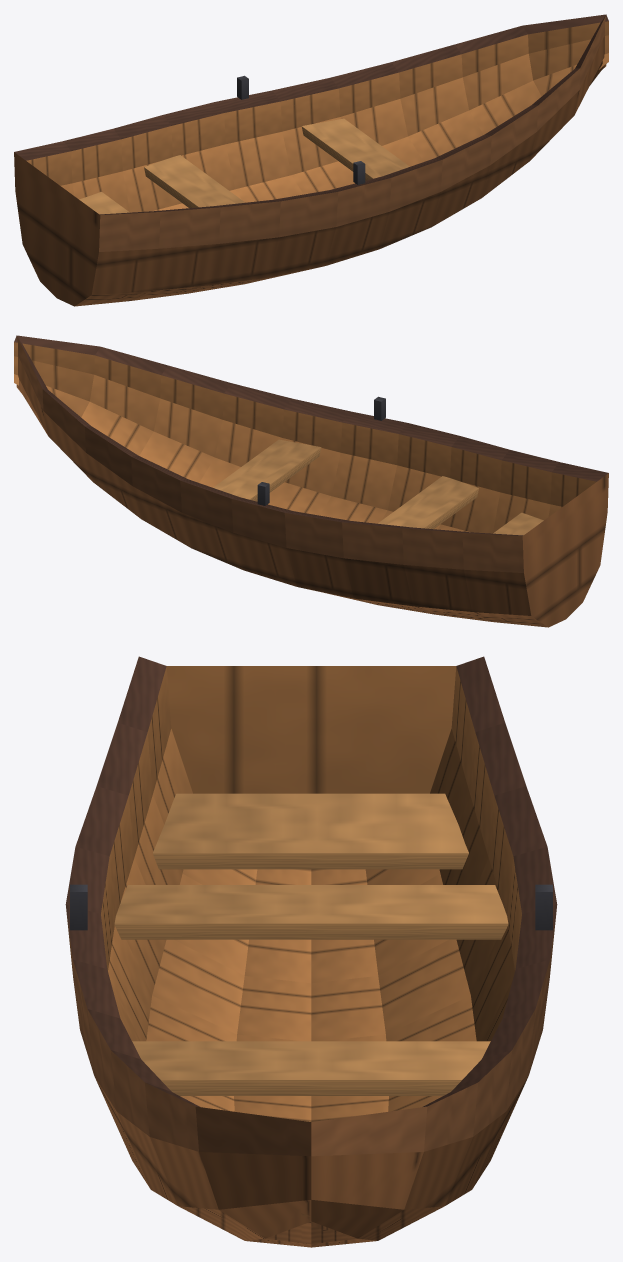
Rendered from boat_rowboat_01.glb.
3 renders of one model, top to bottom at view 1: azimuth 30°, elevation 25°; view 2: azimuth 150°, elevation 25°; view 3: azimuth 270°, elevation 25°, orthographic. The views are drawn at different scales.
Parts seen in each view (by area): view 1: boat_rowboat_01; view 2: boat_rowboat_01; view 3: boat_rowboat_01.
Part boxes in pixels (box(x1,y1,x2,y2)): boat_rowboat_01: box(14, 14, 608, 306); boat_rowboat_01: box(14, 335, 608, 627); boat_rowboat_01: box(65, 656, 557, 1247).
Size of the model in its own units: 3.6 by 1.02 by 1.4.
Materials: 1 (1 with a texture image).
